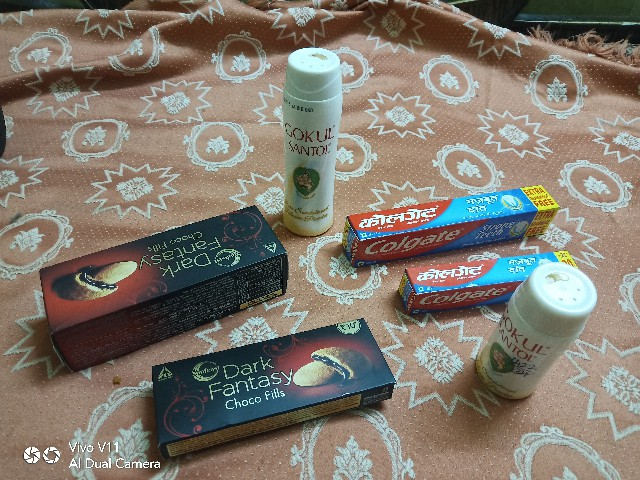colgatetoothpaste big: (334, 168, 569, 256)
colgatetoothpaste small: (396, 237, 580, 310)
darkfantasy big: (26, 203, 293, 367)
darkfantasy small: (150, 317, 423, 451)
gokulsantol big: (275, 37, 349, 236)
gokulsantol small: (473, 263, 599, 418)
